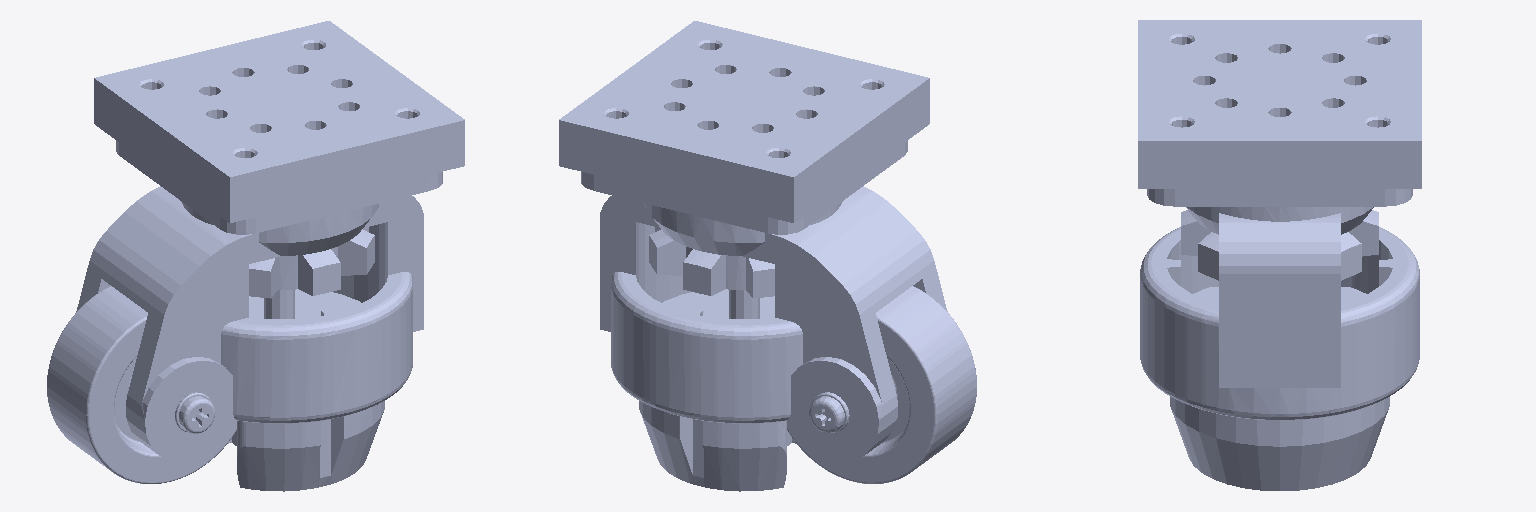
URDF robot description (training_box_half_two):
<?xml version="1.0" encoding="utf-8"?>
<!-- This URDF was automatically created by SolidWorks to URDF Exporter! Originally created by [author] ([email redacted]) 
     Commit Version: 1.6.0-4-g7f85cfe  Build Version: 1.6.7995.38578
     For more information, please see http://wiki.ros.org/sw_urdf_exporter -->
<robot
  name="training_box_half_two">
  <link
    name="base_link">
    <inertial>
      <origin
        xyz="-1.04609646549057 -0.00331180310606182 0.427368452852619"
        rpy="0 0 0" />
      <mass
        value="298.337056864488" />
      <inertia
        ixx="11.7355409638457"
        ixy="-1.17044609818022E-06"
        ixz="1.7935030192873E-07"
        iyy="21.9347789917343"
        iyz="-0.135046803541164"
        izz="19.399162869975" />
    </inertial>
    <visual>
      <origin
        xyz="0 0 0"
        rpy="0 0 0" />
      <geometry>
        <mesh
          filename="../meshes/base_link.STL" />
      </geometry>
      <material
        name="">
        <color
          rgba="0.752941176470588 0.752941176470588 0.752941176470588 1" />
      </material>
    </visual>
    <collision>
      <origin
        xyz="0 0 0"
        rpy="0 0 0" />
      <geometry>
        <mesh
          filename="../meshes/base_link.STL" />
      </geometry>
    </collision>
  </link>
  <link
    name="Empty_Link">
    <inertial>
      <origin
        xyz="-0.00896701102680675 -0.0398846602861542 1.35779536897251E-06"
        rpy="0 0 0" />
      <mass
        value="0.867525193739622" />
      <inertia
        ixx="0.00131050854098361"
        ixy="1.15257726272767E-05"
        ixz="-2.60904196329476E-10"
        iyy="0.00114465089837837"
        iyz="-3.51744361860739E-10"
        izz="0.00147141598431828" />
    </inertial>
    <visual>
      <origin
        xyz="0 0 0"
        rpy="0 0 0" />
      <geometry>
        <mesh
          filename="../meshes/Empty_Link.STL" />
      </geometry>
      <material
        name="">
        <color
          rgba="0.792156862745098 0.819607843137255 0.933333333333333 1" />
      </material>
    </visual>
    <collision>
      <origin
        xyz="0 0 0"
        rpy="0 0 0" />
      <geometry>
        <mesh
          filename="../meshes/Empty_Link.STL" />
      </geometry>
    </collision>
  </link>
  <joint
    name="origin"
    type="fixed">
    <origin
      xyz="-2.867025 -0.2921 -0.472550000288"
      rpy="1.5707963267949 0 0" />
    <parent
      link="base_link" />
    <child
      link="Empty_Link" />
    <axis
      xyz="0 0 0" />
  </joint>
</robot>

--- Render facts (derived) ---
The picture shows the robot from 3 angles, left to right: view 1: azimuth 30°, elevation 25°; view 2: azimuth 150°, elevation 25°; view 3: azimuth 270°, elevation 25°; orthographic projection.
Robot: training_box_half_two — 2 links, 1 joints (1 fixed); root link base_link; default pose: all joints at 0.
Visible links, largest first — view 1: Empty_Link; view 2: Empty_Link; view 3: Empty_Link.
Link boxes in pixels (x1,y1,x2,y2): Empty_Link: (47, 21, 464, 491); Empty_Link: (559, 21, 976, 491); Empty_Link: (1138, 20, 1421, 490).
Size in the robot's own frame: 0.1428 by 0.1016 by 0.1466 metres.
1 mesh visuals loaded from 2 distinct referenced files (1 binary STL); not drawn: 1 (reference not matched to a file when rendering).